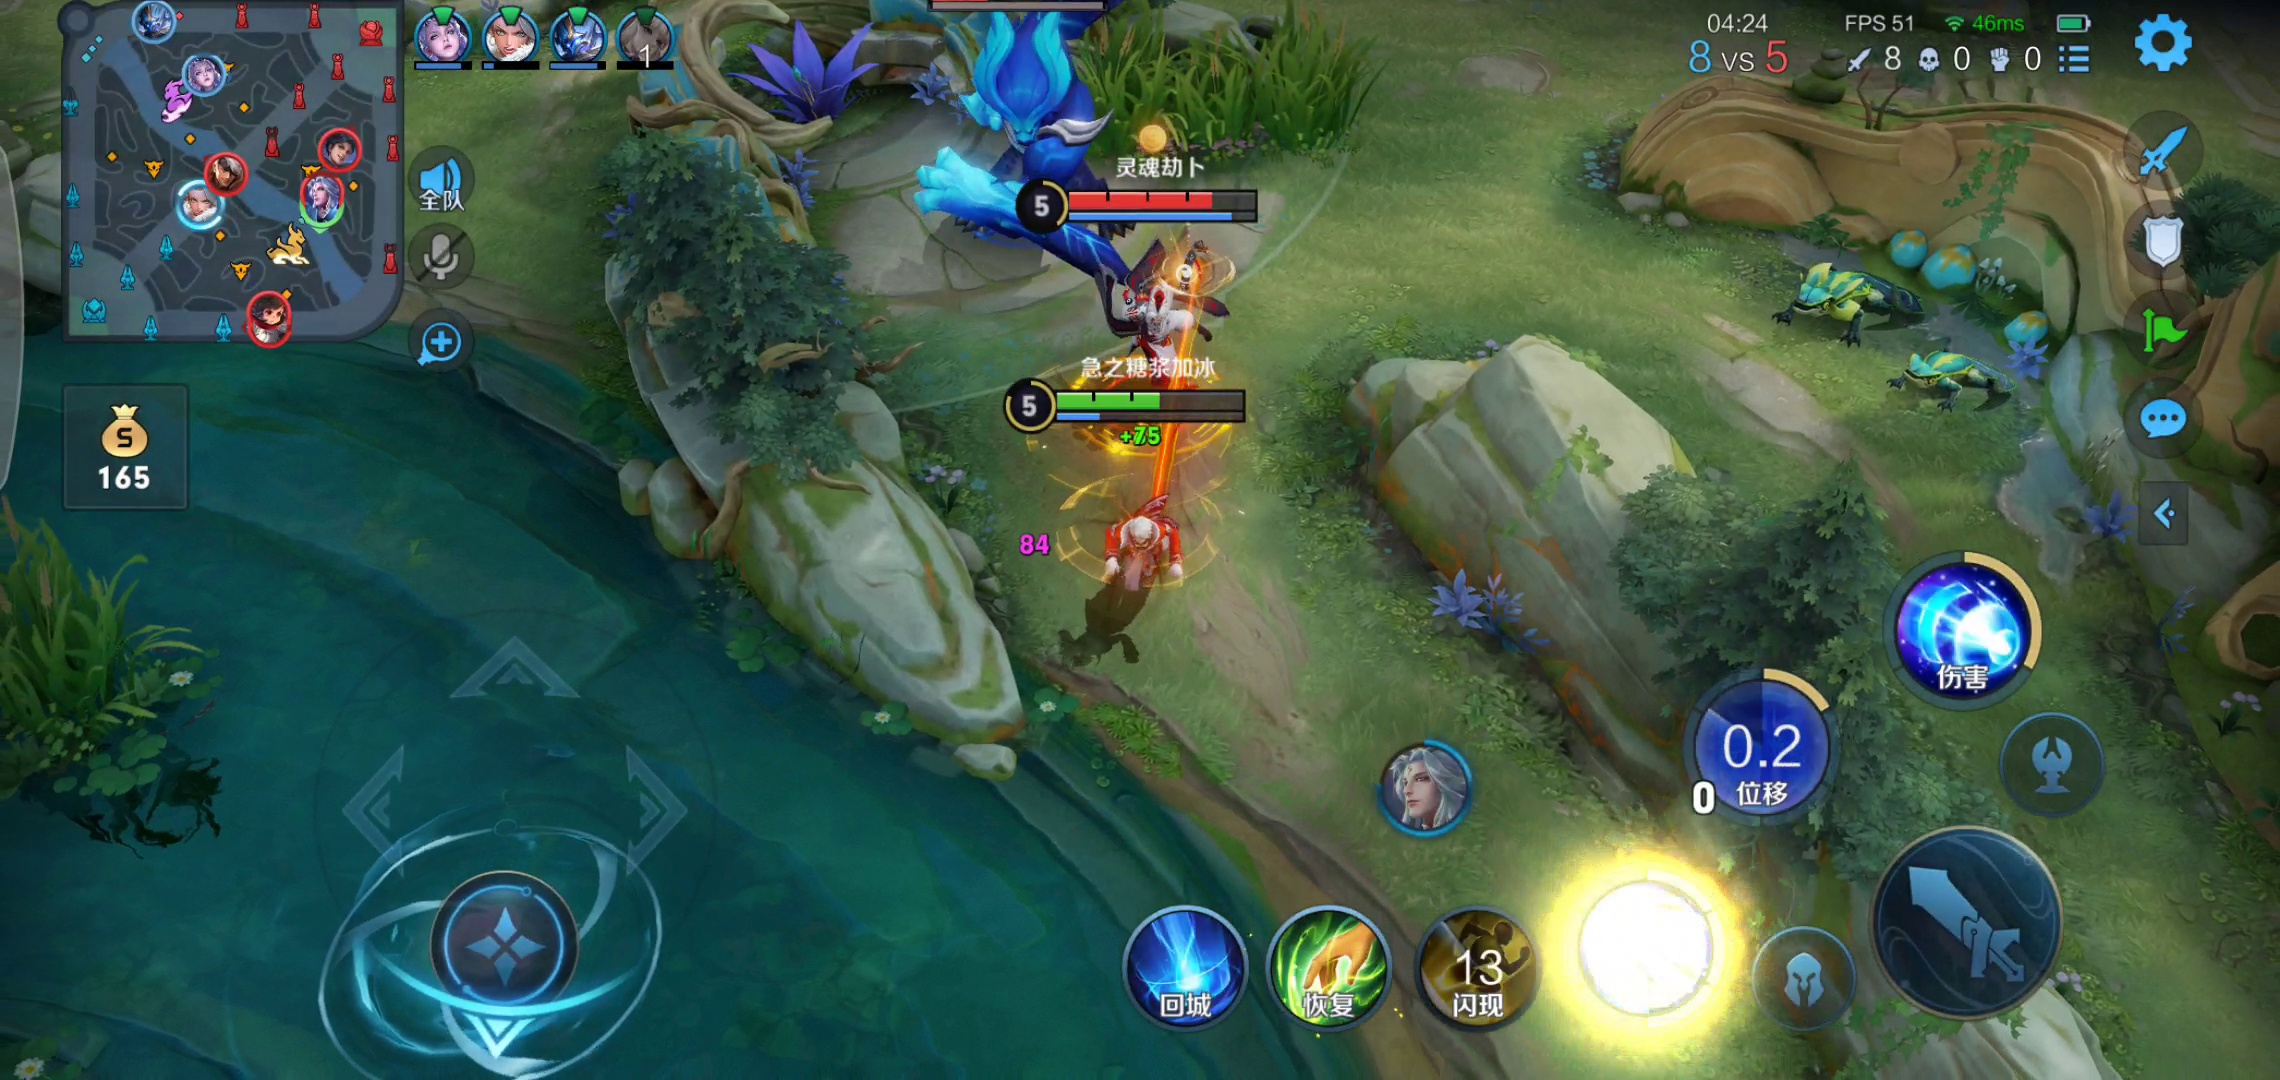buff: (902, 12, 1136, 267)
grass: (1, 507, 220, 823), (1096, 32, 1380, 157)
hero: (1099, 275, 1297, 410), (1077, 499, 1219, 613)
wild_monster: (1745, 250, 2010, 442)
